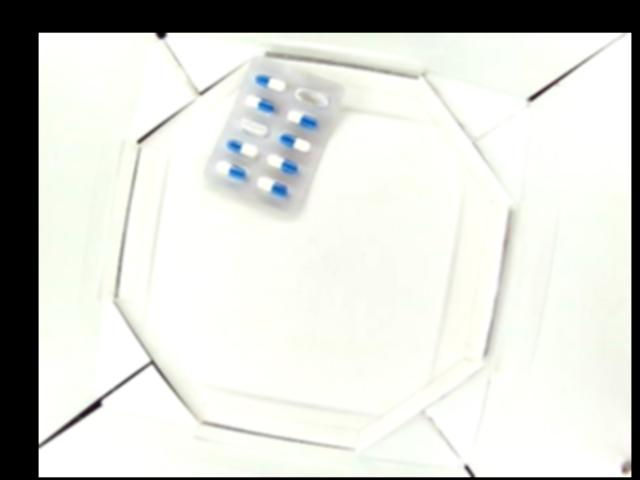Medicine: (201, 54, 346, 220)
